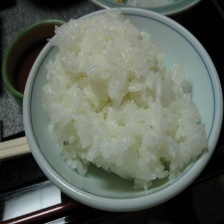rice: (40, 6, 216, 194)
